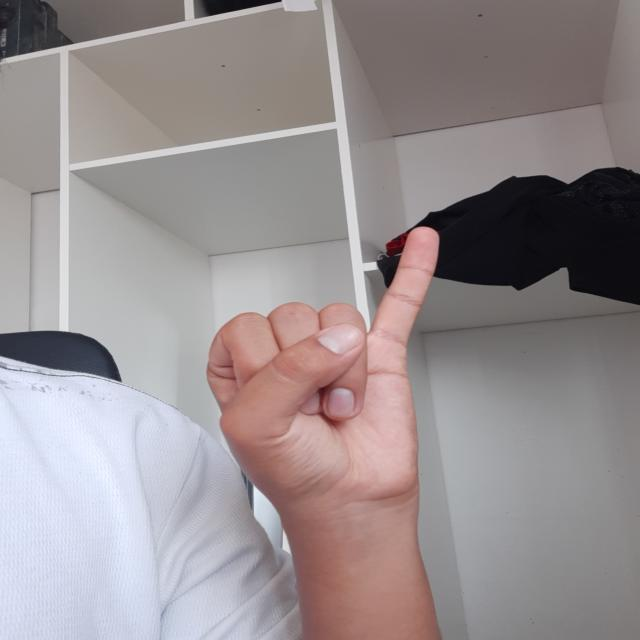I: (205, 207, 453, 519)
